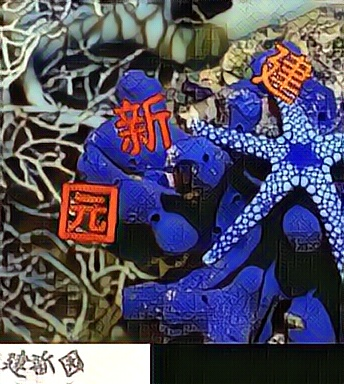BDA8: (248, 41, 313, 106)
D0C2: (110, 92, 175, 157)
D4B0: (55, 178, 120, 243)
